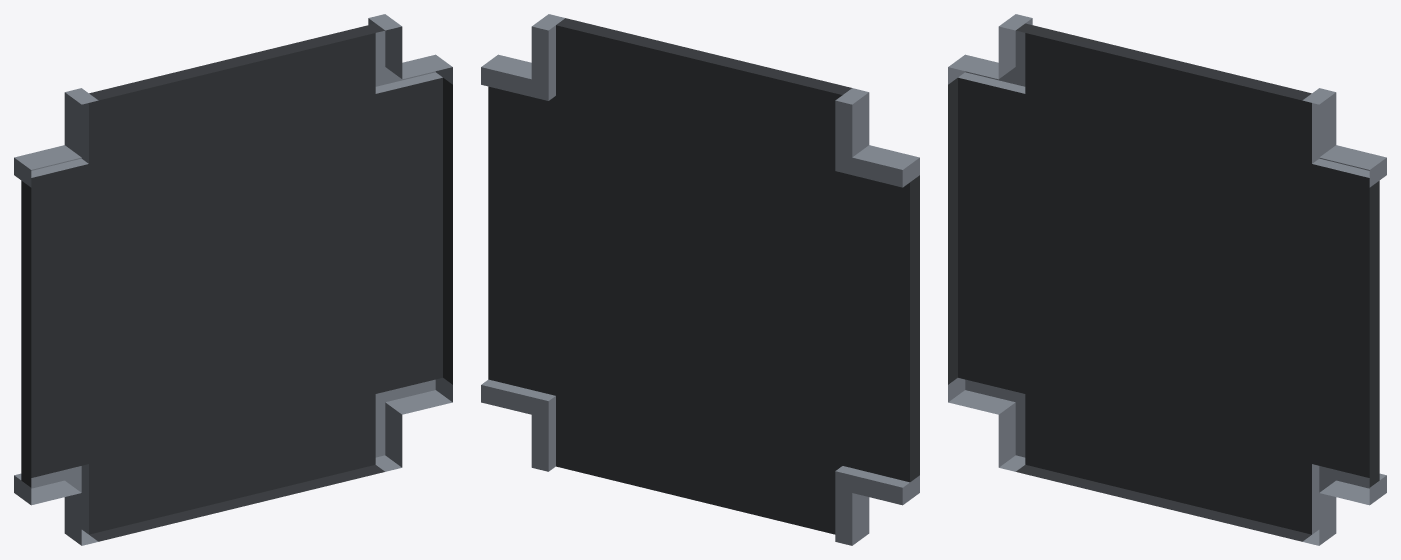
File: SM_RoadSmall_IntersectionX.FBX
3 views of the same model, side by side, from view 1: azimuth 30°, elevation 25°; view 2: azimuth 150°, elevation 25°; view 3: azimuth 330°, elevation 25° (orthographic).
Visible parts, largest first — view 1: SM_RoadSmall_IntersectionX; view 2: SM_RoadSmall_IntersectionX; view 3: SM_RoadSmall_IntersectionX.
Boxes of the visible parts, x1,y1,x2,y2 form: SM_RoadSmall_IntersectionX: (14, 14, 452, 545); SM_RoadSmall_IntersectionX: (481, 14, 919, 545); SM_RoadSmall_IntersectionX: (948, 14, 1386, 545).
Size of the model in its own units: 50 by 3.5 by 50.01.
